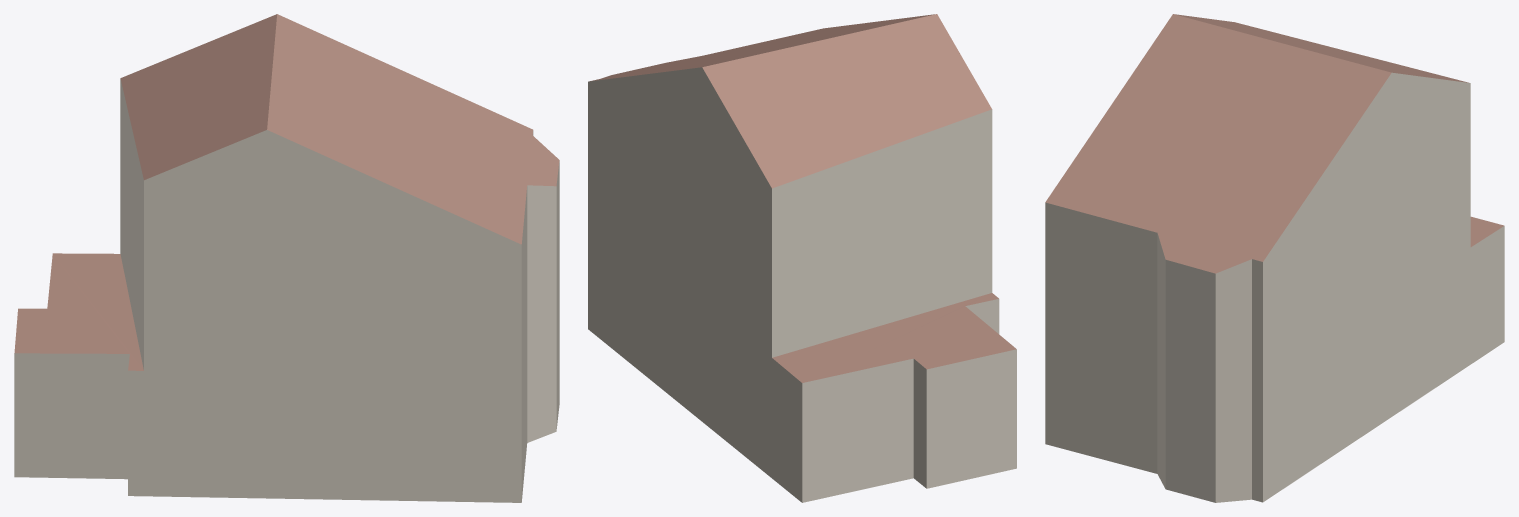
The picture shows the model from 3 angles, left to right: view 1: azimuth 30°, elevation 25°; view 2: azimuth 150°, elevation 25°; view 3: azimuth 270°, elevation 25°; orthographic projection. The views are drawn at different scales.
Size of the model in its own units: 14.31 by 10.44 by 12.6.
